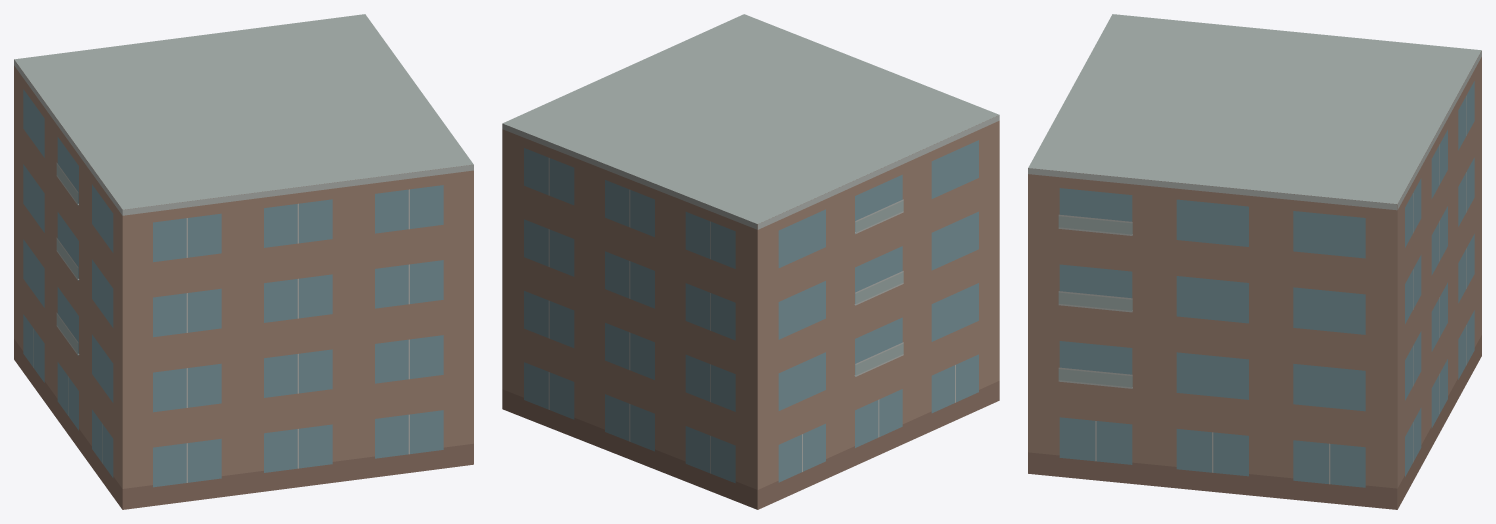
The model's file is residential-2d7188c1-5f04-44d1-9d9d-cb196ff00a33.glb.
3 views of the same model, side by side, from view 1: azimuth 30°, elevation 25°; view 2: azimuth 150°, elevation 25°; view 3: azimuth 270°, elevation 25° (orthographic). The views are drawn at different scales.
Parts seen in each view (by area): view 1: residential-2d7188c1-5f04-44d1-9d9d-cb196ff00a33.tmp; view 2: residential-2d7188c1-5f04-44d1-9d9d-cb196ff00a33.tmp; view 3: residential-2d7188c1-5f04-44d1-9d9d-cb196ff00a33.tmp.
Boxes of the visible parts, <box> form: residential-2d7188c1-5f04-44d1-9d9d-cb196ff00a33.tmp: <box>14,14,473,509</box>; residential-2d7188c1-5f04-44d1-9d9d-cb196ff00a33.tmp: <box>502,14,999,509</box>; residential-2d7188c1-5f04-44d1-9d9d-cb196ff00a33.tmp: <box>1028,14,1481,509</box>.
Size of the model in its own units: 16.28 by 12.2 by 16.42.
